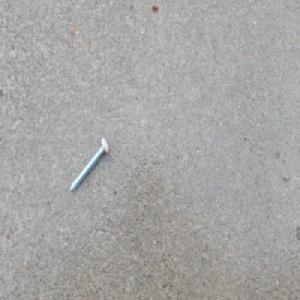Nail: (69, 136, 111, 195)
